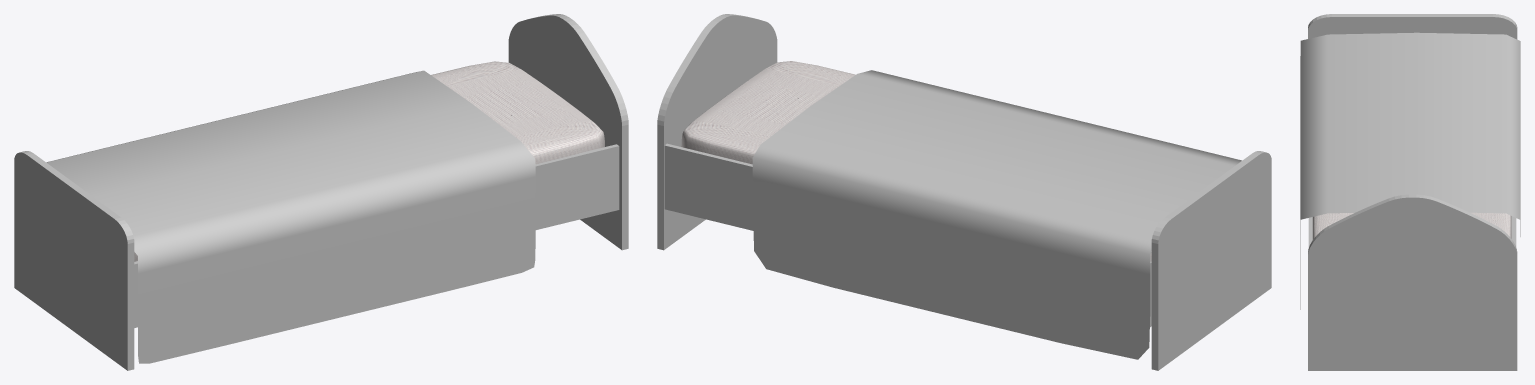
Rendered from cama solteiro.fbx.
3 renders of one model, left to right at view 1: azimuth 30°, elevation 25°; view 2: azimuth 150°, elevation 25°; view 3: azimuth 270°, elevation 25°, orthographic. The views are drawn at different scales.
Parts seen in each view (by area): view 1: coberta 1, Madeira da cama 1, colchao 1; view 2: coberta 1, Madeira da cama 1, colchao 1; view 3: coberta 1, Madeira da cama 1, colchao 1.
Part boxes in pixels (<box>): coberta 1: <box>46,70,535,363</box>; Madeira da cama 1: <box>14,14,628,370</box>; colchao 1: <box>134,61,604,261</box>; coberta 1: <box>752,70,1241,359</box>; Madeira da cama 1: <box>657,14,1271,370</box>; colchao 1: <box>681,61,1151,261</box>; coberta 1: <box>1300,32,1520,309</box>; Madeira da cama 1: <box>1308,14,1517,370</box>; colchao 1: <box>1312,212,1511,239</box>.
Size of the model in its own units: 102 by 36.65 by 42.17.
